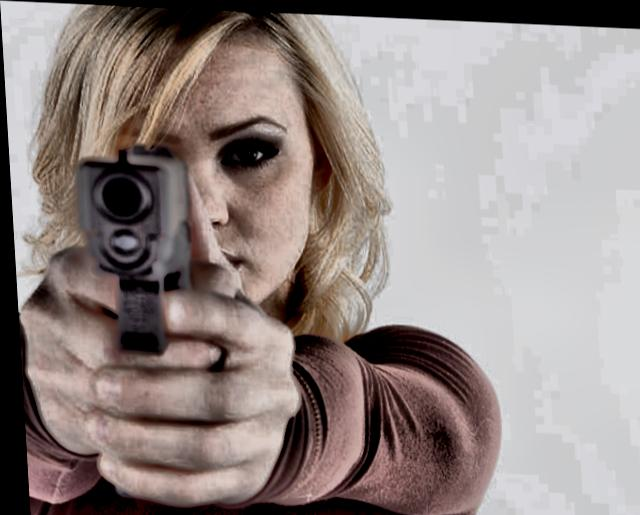pistol: (67, 137, 200, 357)
